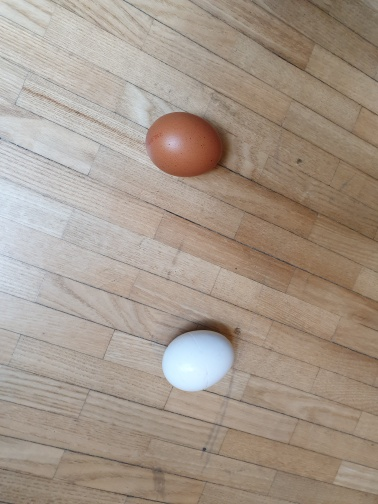egg: (143, 110, 230, 181), (160, 327, 237, 397)
